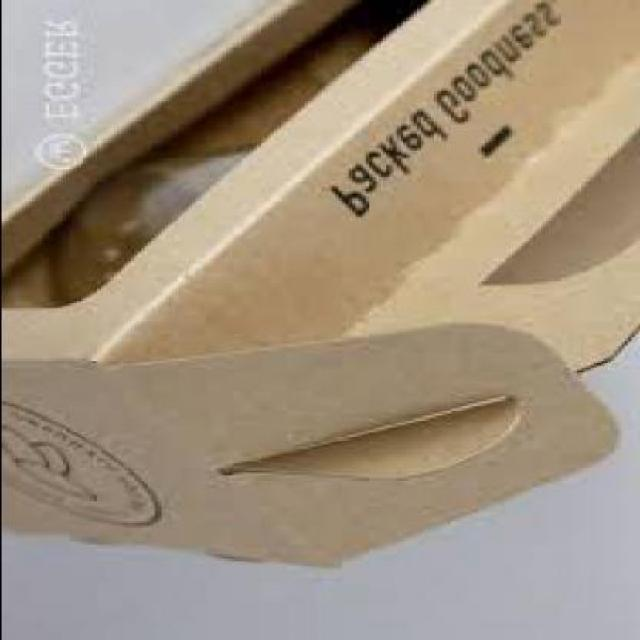box: (3, 1, 639, 574)
